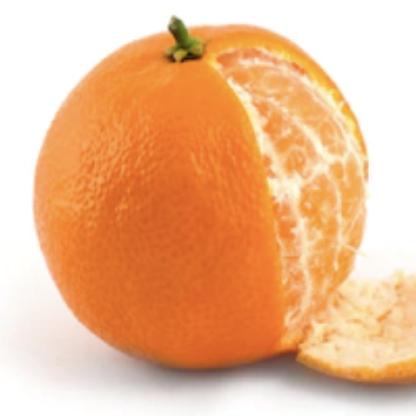fresh: (35, 21, 366, 374)
